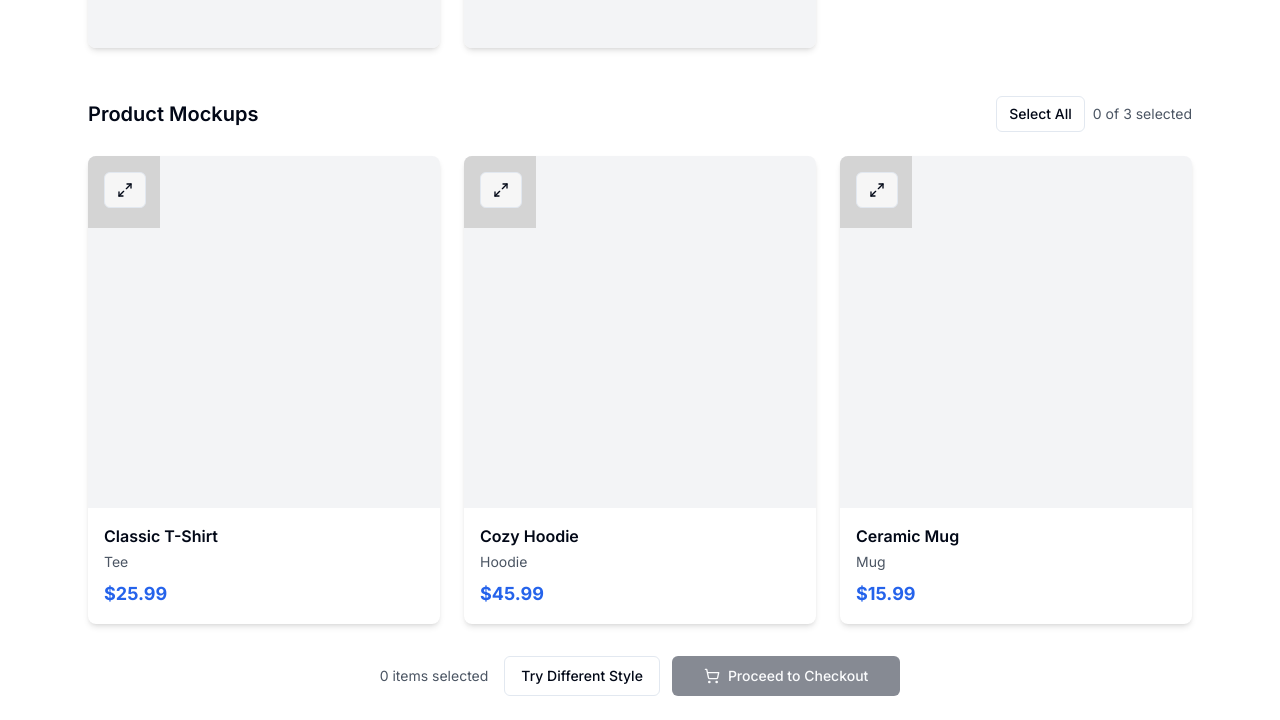
it: ResultsGallery › handles mockup selection
(page scrolled)
Step 1. Click the text "Classic T-Shirt" → [161, 536], box [104, 526, 218, 604]
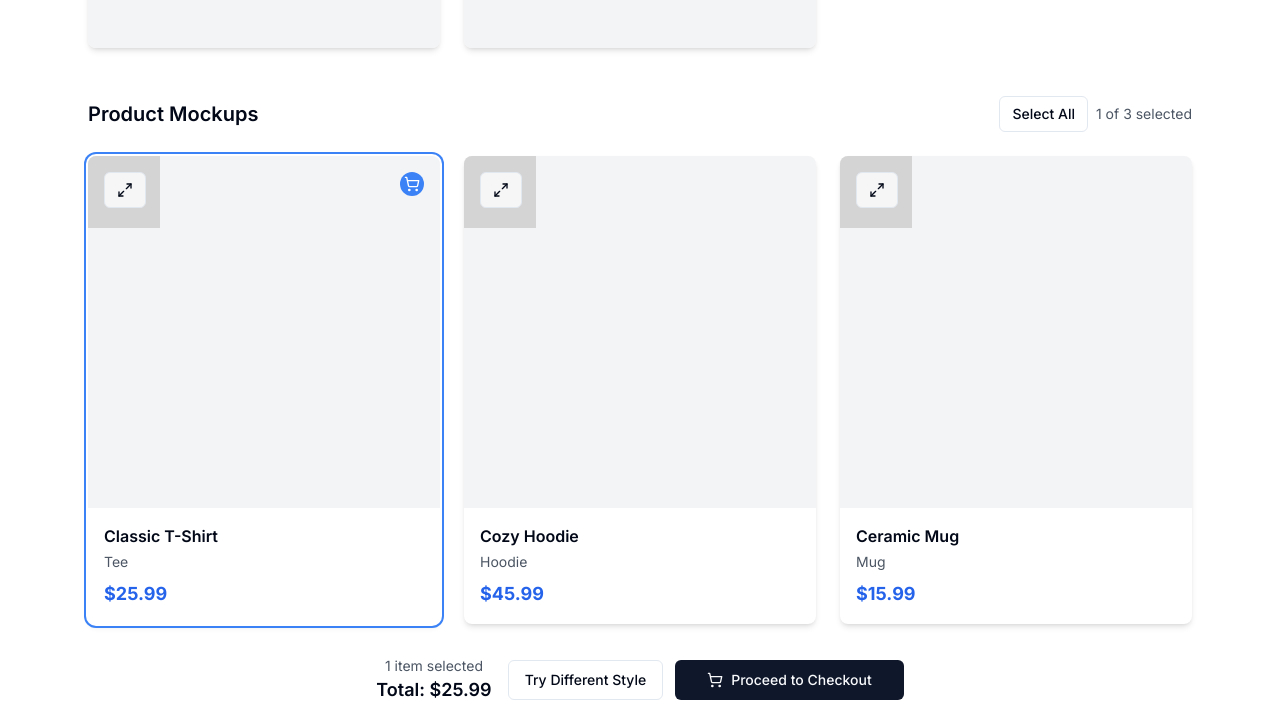
Expected: the text "1 of 3 selected" is shown, [1096, 105, 1192, 122]
Expected: the text "1 item selected" is shown, [376, 656, 492, 676]
Expected: the text "Total: $25.99" is shown, [376, 676, 492, 704]
